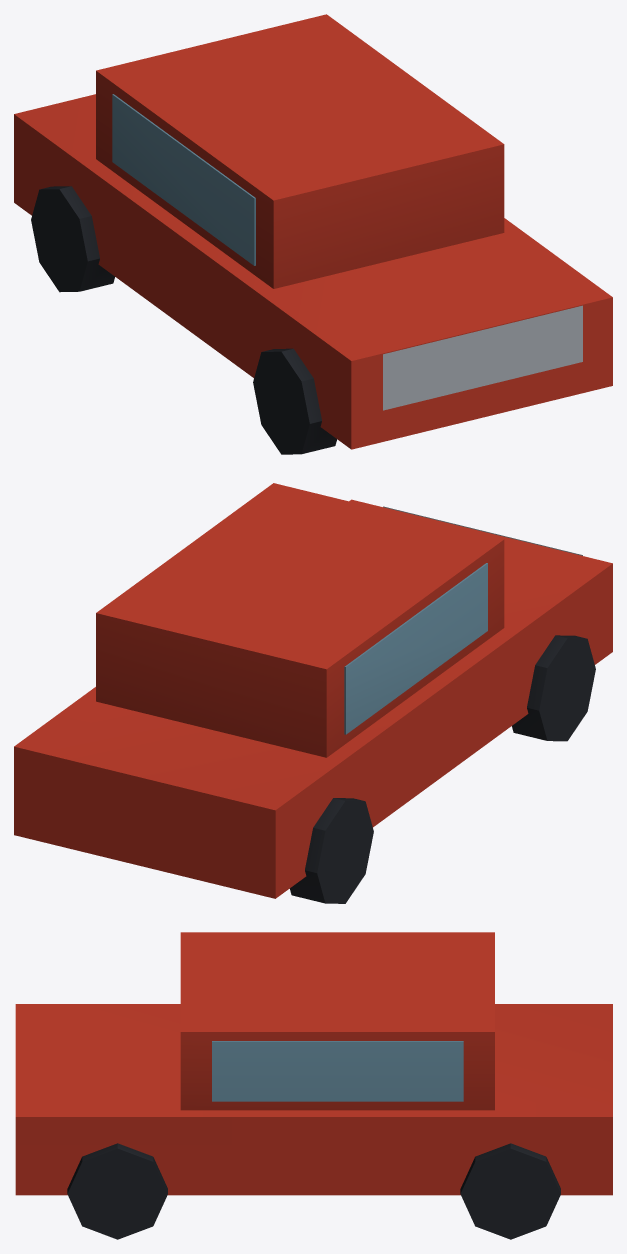
File: xe-hoi-do.glb
3 views of the same model, one above another, from view 1: azimuth 30°, elevation 25°; view 2: azimuth 150°, elevation 25°; view 3: azimuth 270°, elevation 25° (orthographic). The views are drawn at different scales.
Parts seen in each view (by area): view 1: xe-hoi-do; view 2: xe-hoi-do; view 3: xe-hoi-do.
Boxes of the visible parts, x1,y1,x2,y2 form: xe-hoi-do: [14, 14, 612, 454]; xe-hoi-do: [14, 483, 612, 903]; xe-hoi-do: [15, 932, 612, 1239].
Size of the model in its own units: 1.86 by 1.38 by 3.81.
